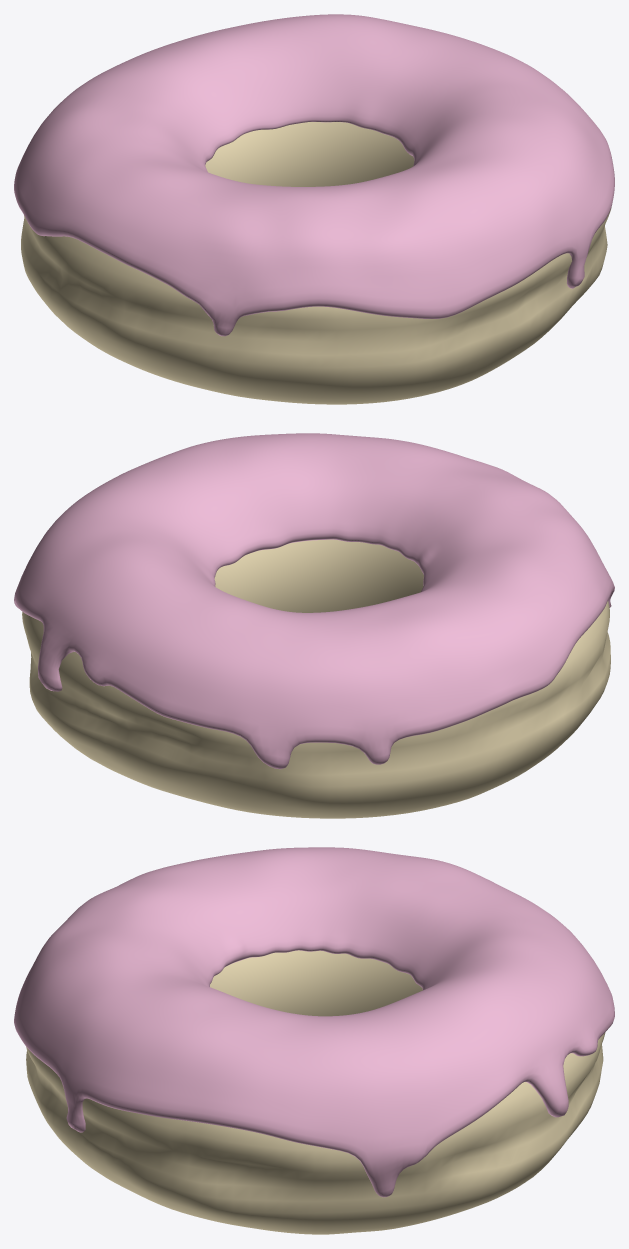
The model's file is donut.glb.
3 renders of one model, top to bottom at view 1: azimuth 30°, elevation 25°; view 2: azimuth 150°, elevation 25°; view 3: azimuth 270°, elevation 25°, orthographic.
Visible parts, largest first — view 1: icing, donut; view 2: icing, donut; view 3: icing, donut.
Part boxes in pixels (left/top/right/bottom): icing: left=14, top=14, right=614, bottom=336; donut: left=21, top=122, right=611, bottom=404; icing: left=14, top=433, right=614, bottom=769; donut: left=22, top=539, right=610, bottom=818; icing: left=14, top=847, right=614, bottom=1197; donut: left=26, top=950, right=605, bottom=1234.
Size of what is drawn, in the model's own units: 0.1494 by 0.0573 by 0.1493.
